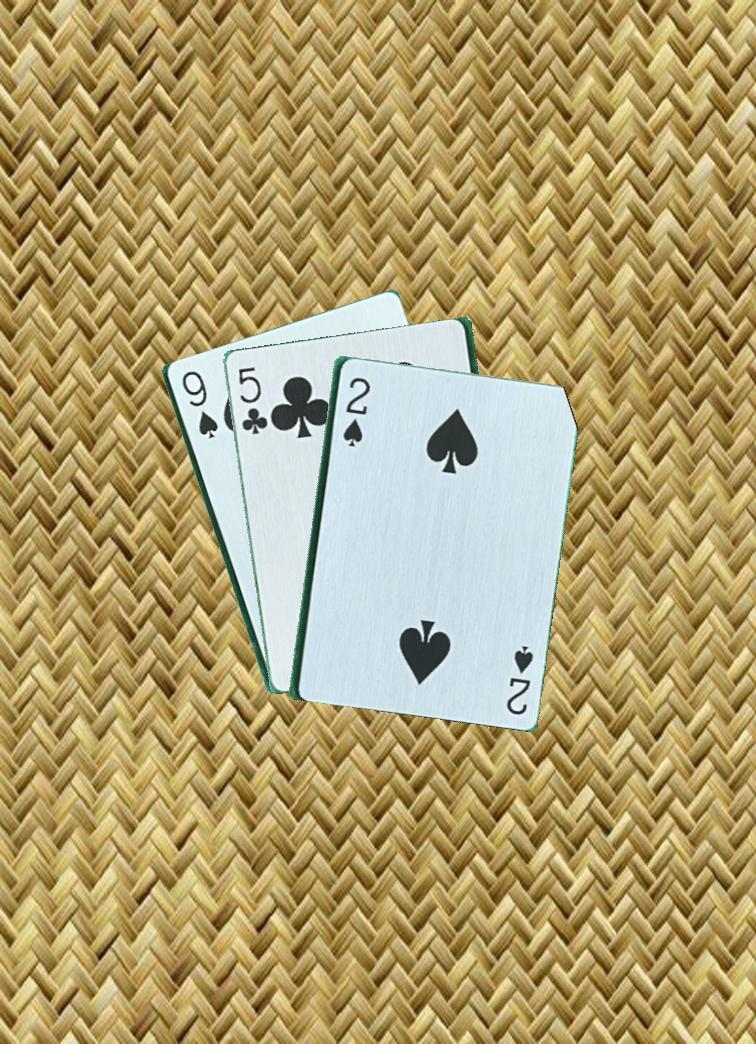2s: (502, 634, 536, 718), (338, 365, 371, 450)
5c: (234, 363, 270, 437)
9s: (177, 367, 219, 442)
